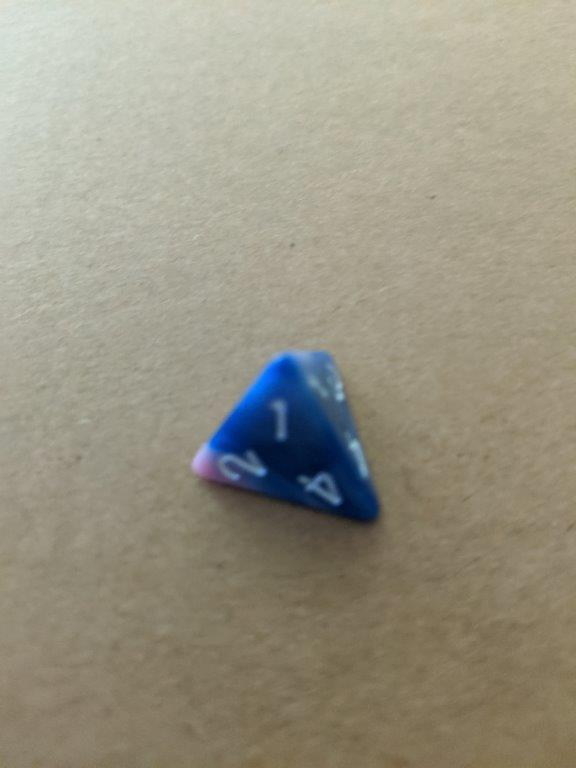d4-1: (188, 344, 387, 531)
